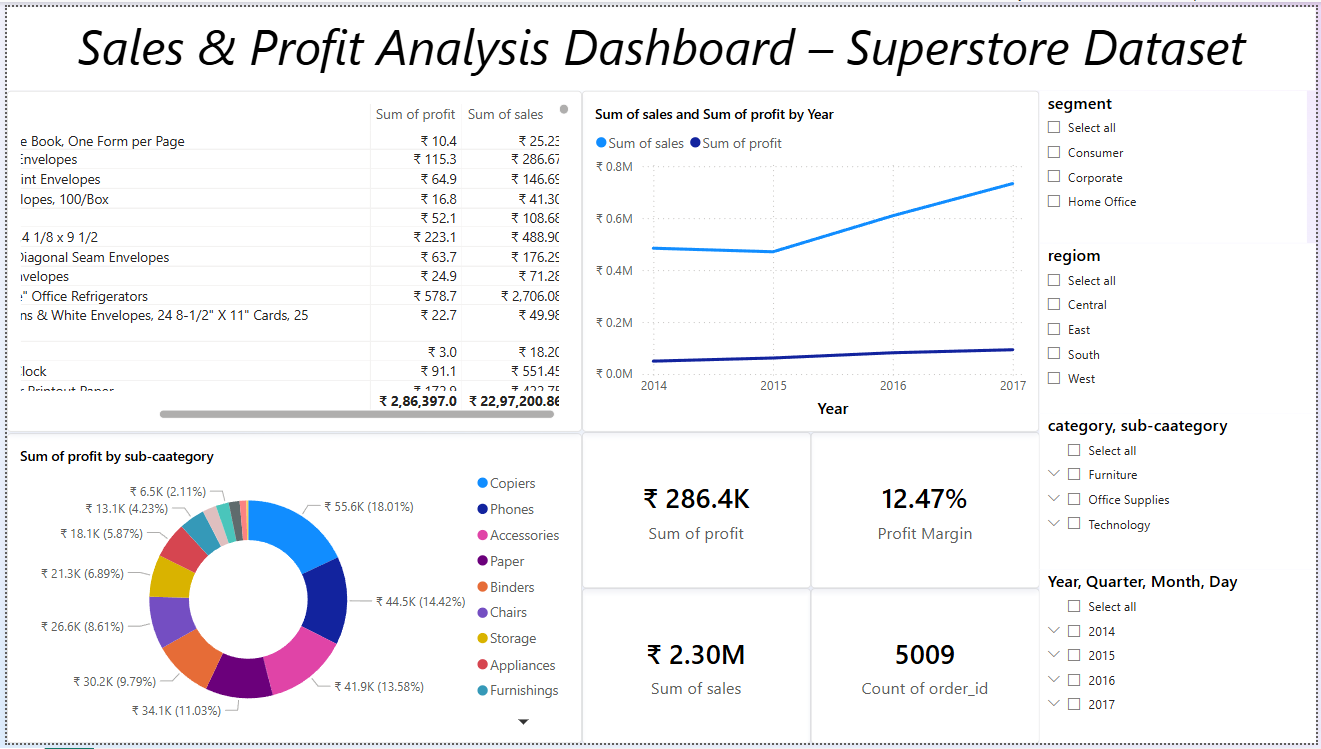

Layout of this report page (visuals, bound fields, positions):
{"tool":"powerbi","page":{"name":"Page 1","canvas":[1280,720],"ordinal":0},"visuals":[{"type":"card","fields":{"Values":["Sum(Sample - Superstore (2).sales)"]},"box":[562.5,568.6,223.8,151.6],"z":0},{"type":"card","fields":{"Values":["Count(Sample - Superstore (2).order_id)"]},"box":[786.3,568.6,223.8,151.6],"z":1000},{"type":"card","fields":{"Values":["Sample - Superstore (2).Profit Margin"]},"box":[786.3,415.8,223.8,152.9],"z":2000},{"type":"card","fields":{"Values":["Sum(Sample - Superstore (2).profit)"]},"box":[562.5,415.8,223.8,152.9],"z":3000},{"type":"textbox","box":[0,0,1280.3,81.9],"z":3001},{"type":"lineChart","fields":{"Category":["Sample - Superstore (2).order_date.Variation.Date Hierarchy.Year","Sample - Superstore (2).order_date.Variation.Date Hierarchy.Quarter","Sample - Superstore (2).order_date.Variation.Date Hierarchy.Month","Sample - Superstore (2).order_date.Variation.Date Hierarchy.Day"],"Y":["Sum(Sample - Superstore (2).sales)","Sum(Sample - Superstore (2).profit)"]},"box":[562.5,81.9,447.6,333.8],"z":3002},{"type":"donutChart","fields":{"Category":["Sample - Superstore (2).sub-caategory"],"Y":["Sum(Sample - Superstore (2).profit)"]},"box":[0,417,562.5,303.3],"z":3005},{"type":"tableEx","fields":{"Values":["Sample - Superstore (2).product_name","Sum(Sample - Superstore (2).profit)","Sum(Sample - Superstore (2).sales)"]},"box":[0,81.9,562.5,333.8],"z":3006},{"type":"slicer","fields":{"Values":["Sample - Superstore (2).category","Sample - Superstore (2).sub-caategory"]},"box":[1010.1,397.4,270.2,152.9],"z":3007},{"type":"slicer","fields":{"Values":["Sample - Superstore (2).regiom"]},"box":[1010.1,231.1,270.2,166.3],"z":3008},{"type":"slicer","fields":{"Values":["Sample - Superstore (2).order_date.Variation.Date Hierarchy.Year","Sample - Superstore (2).order_date.Variation.Date Hierarchy.Quarter","Sample - Superstore (2).order_date.Variation.Date Hierarchy.Month","Sample - Superstore (2).order_date.Variation.Date Hierarchy.Day"]},"box":[1010.1,550.3,270.2,170],"z":3009},{"type":"slicer","fields":{"Values":["Sample - Superstore (2).segment"]},"box":[1010.1,81.9,261.7,149.2],"z":3010}]}

Visuals, with their boxes in screenshot pixels (x1, y1, x2, y2), scaled from the page's 1280x720 canvas onto the 1321x749 screenshot:
card - Sum(Sample - Superstore (2).sales): l=581, t=592, r=811, b=748
card - Count(Sample - Superstore (2).order_id): l=811, t=592, r=1042, b=748
card - Sample - Superstore (2).Profit Margin: l=811, t=433, r=1042, b=592
card - Sum(Sample - Superstore (2).profit): l=581, t=433, r=811, b=592
textbox: l=0, t=0, r=1320, b=85
lineChart - Sample - Superstore (2).order_date.Variation.Date Hierarchy.Year x Sample - Superstore (2).order_date.Variation.Date Hierarchy.Quarter: l=581, t=85, r=1042, b=432
donutChart - Sample - Superstore (2).sub-caategory x Sum(Sample - Superstore (2).profit): l=0, t=434, r=581, b=748
tableEx - Sample - Superstore (2).product_name x Sum(Sample - Superstore (2).profit): l=0, t=85, r=581, b=432
slicer - Sample - Superstore (2).category x Sample - Superstore (2).sub-caategory: l=1042, t=413, r=1320, b=572
slicer - Sample - Superstore (2).regiom: l=1042, t=240, r=1320, b=413
slicer - Sample - Superstore (2).order_date.Variation.Date Hierarchy.Year x Sample - Superstore (2).order_date.Variation.Date Hierarchy.Quarter: l=1042, t=572, r=1320, b=748
slicer - Sample - Superstore (2).segment: l=1042, t=85, r=1313, b=240
